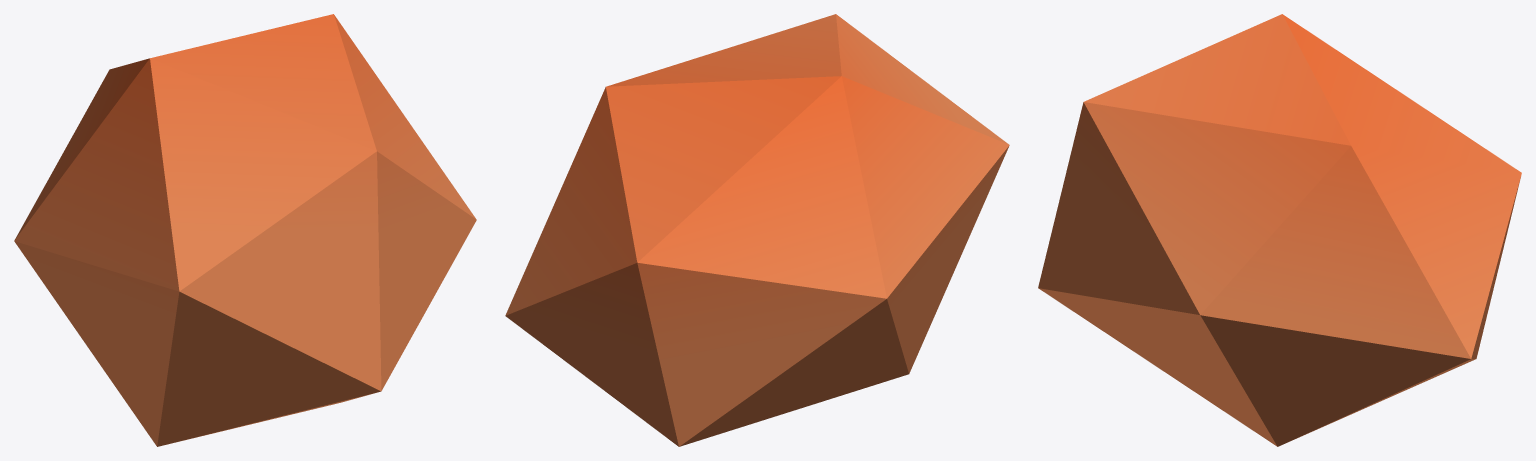
Rendered from food_grape_single.fbx.
3 views of the same model, side by side, from view 1: azimuth 30°, elevation 25°; view 2: azimuth 150°, elevation 25°; view 3: azimuth 270°, elevation 25° (orthographic). The views are drawn at different scales.
Visible parts, largest first — view 1: polySurface137; view 2: polySurface137; view 3: polySurface137.
Part boxes in pixels (x1,y1,x2,y2): polySurface137: [14, 14, 476, 446]; polySurface137: [505, 14, 1009, 446]; polySurface137: [1038, 14, 1521, 446].
Size of the model in its own units: 19.28 by 19.12 by 23.95.
1 material, 1 textured.
